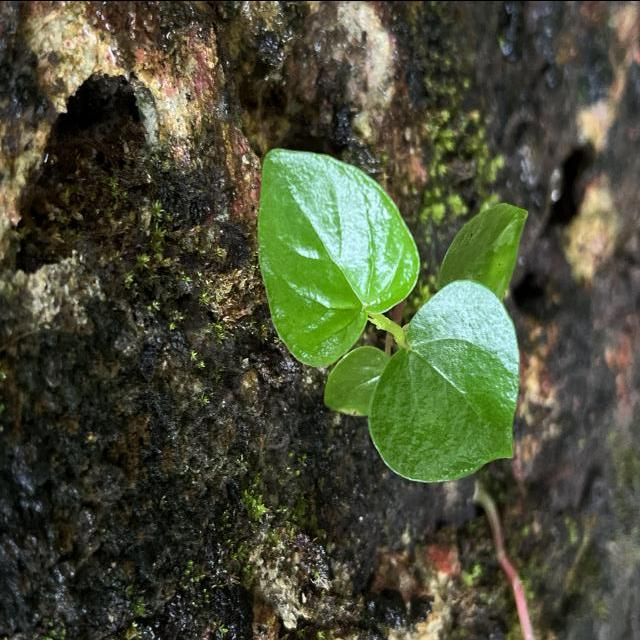Peperomia pellucida: (256, 146, 422, 368), (367, 276, 522, 484)
